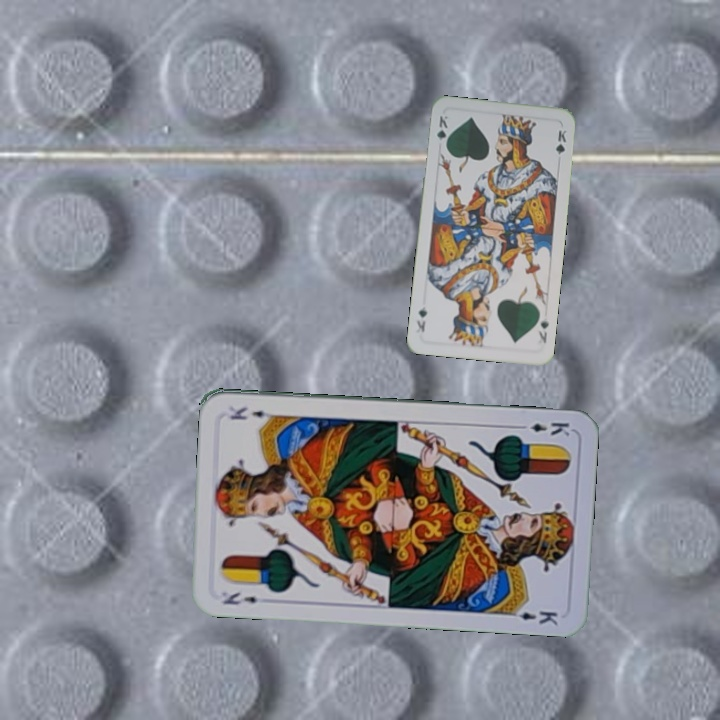EK: (514, 418, 572, 439), (219, 588, 260, 608)
GK: (433, 112, 450, 151), (534, 316, 551, 345)
